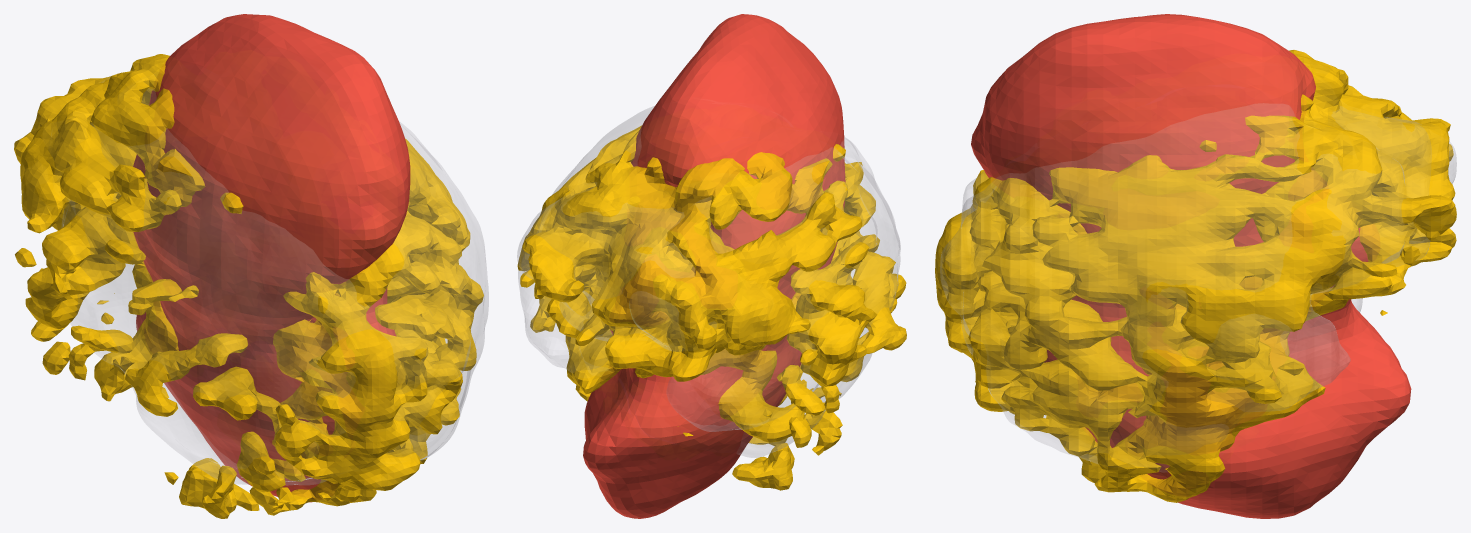
Rendered from case_12.gltf.
The picture shows the model from 3 angles, left to right: view 1: azimuth 30°, elevation 25°; view 2: azimuth 150°, elevation 25°; view 3: azimuth 270°, elevation 25°; orthographic projection. The views are drawn at different scales.
Parts seen in each view (by area): view 1: penumbra, brain, stroke; view 2: penumbra, stroke, brain; view 3: penumbra, brain, stroke.
Part boxes in pixels (bbox=[...]): penumbra: bbox=[14, 54, 483, 518]; brain: bbox=[62, 76, 488, 485]; stroke: bbox=[133, 14, 410, 502]; penumbra: bbox=[517, 125, 906, 490]; stroke: bbox=[583, 14, 845, 518]; brain: bbox=[517, 106, 900, 457]; penumbra: bbox=[935, 50, 1456, 502]; brain: bbox=[940, 103, 1456, 471]; stroke: bbox=[971, 14, 1411, 518].
Bounding box in the file's own units: 1.59 × 1.99 × 1.96.
